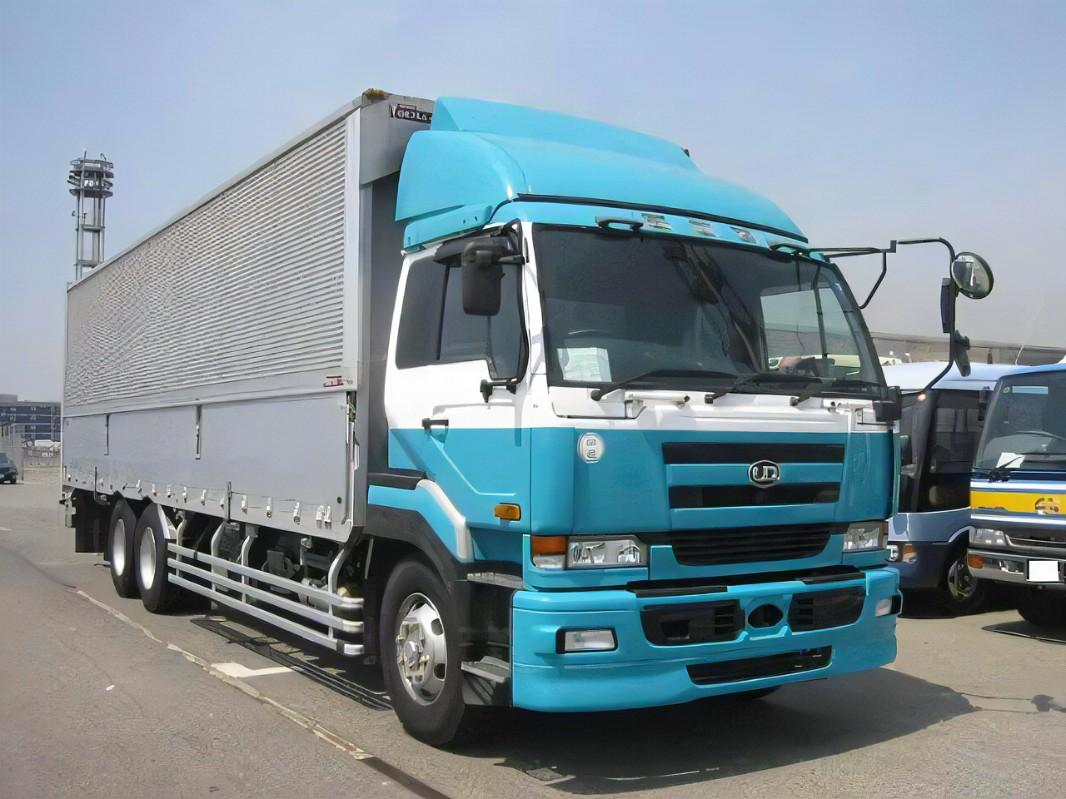truck: (43, 85, 966, 746)
